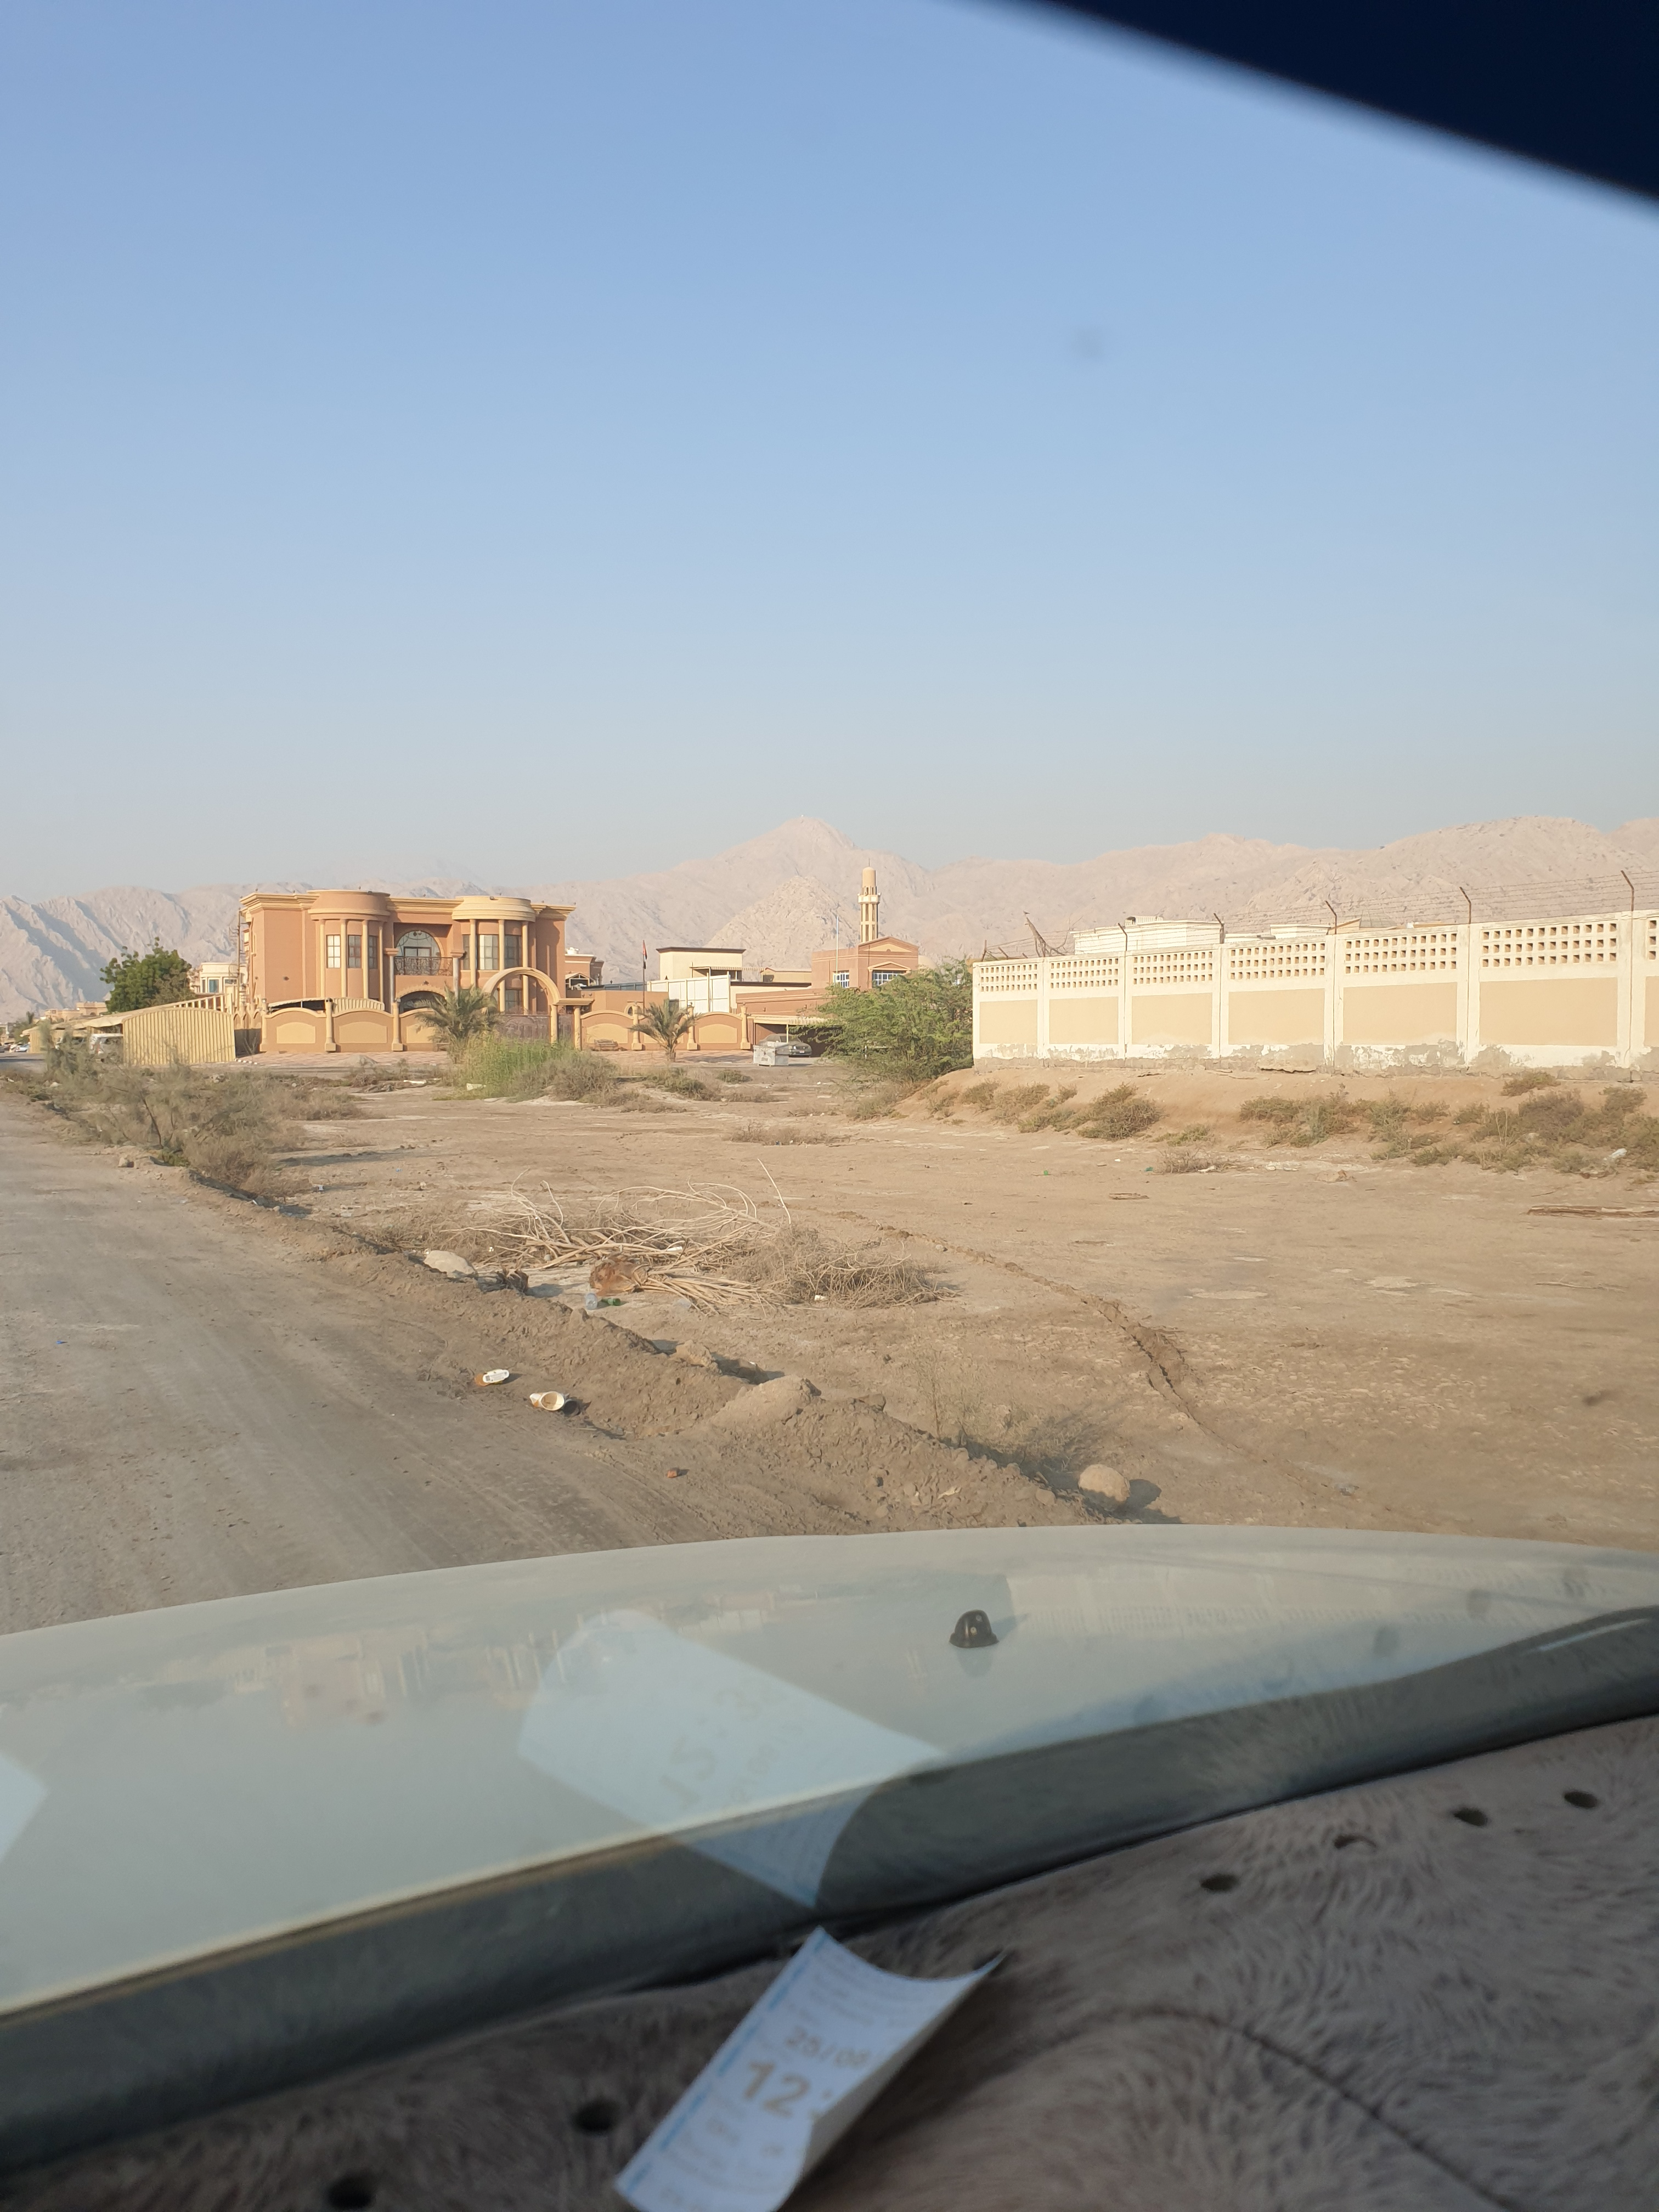fallen_trees: (450, 1139, 999, 1369), (500, 1179, 781, 1317), (711, 1195, 976, 1327), (821, 1209, 981, 1332)
